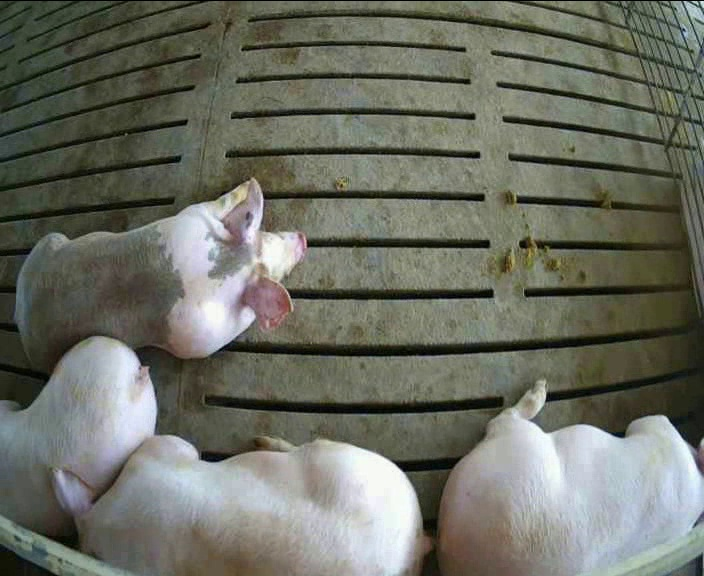pig: (15, 179, 305, 370), (51, 436, 432, 573), (438, 381, 703, 573), (0, 336, 156, 535)
